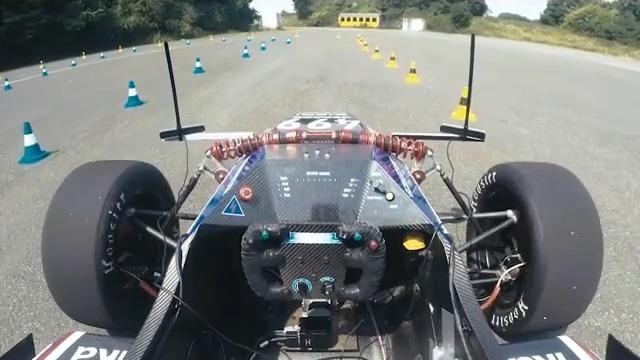blue_cone: (17, 120, 53, 167), (122, 80, 145, 107), (191, 56, 206, 75), (2, 76, 12, 92), (241, 44, 251, 59), (260, 41, 267, 53)
yellow_cone: (449, 85, 479, 122), (405, 60, 420, 83), (386, 50, 399, 68), (371, 46, 383, 60)
